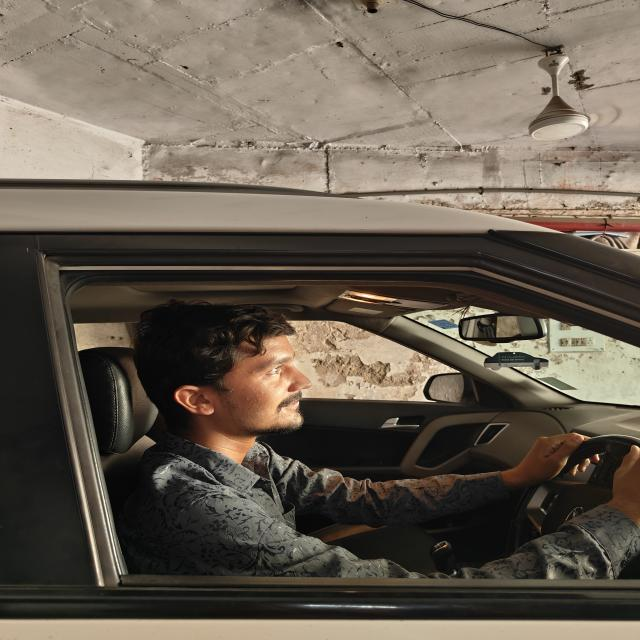no-seatbelt: (87, 404, 430, 614)
